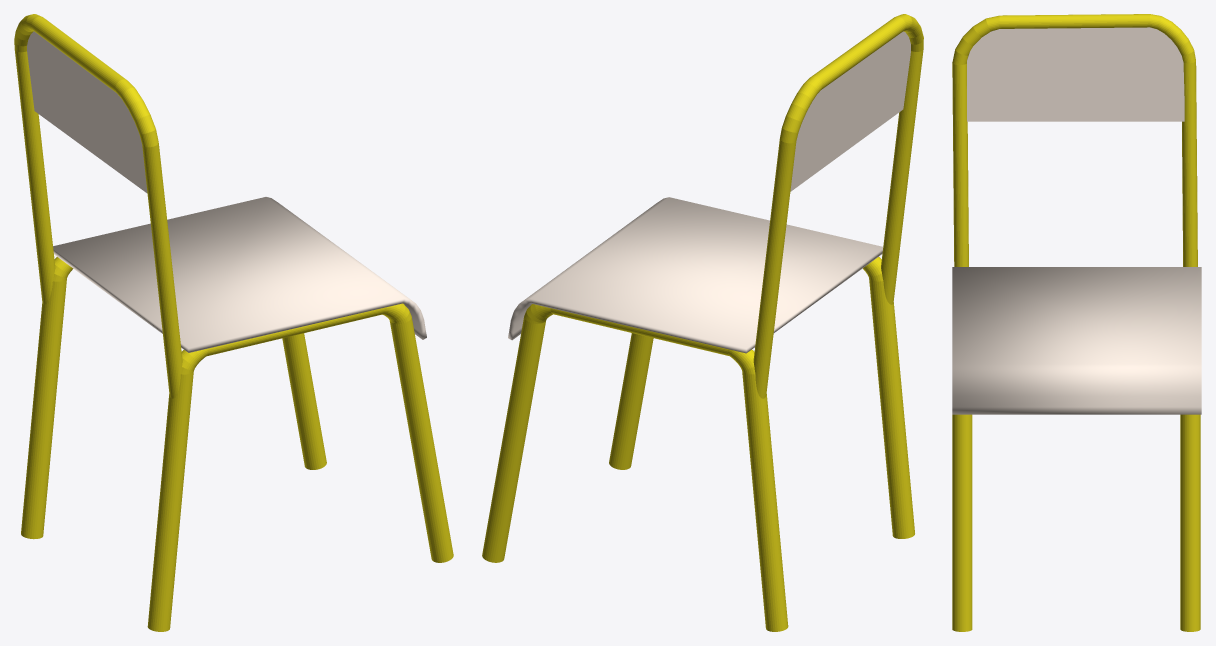
Rendered from seat.fbx.
The picture shows the model from 3 angles, left to right: view 1: azimuth 30°, elevation 25°; view 2: azimuth 150°, elevation 25°; view 3: azimuth 270°, elevation 25°; orthographic projection. The views are drawn at different scales.
Parts seen in each view (by area): view 1: Cylinder.002; view 2: Cylinder.002; view 3: Cylinder.002.
Part boxes in pixels (x1=…): Cylinder.002: x1=14, y1=14, x2=453, y2=631; Cylinder.002: x1=482, y1=14, x2=923, y2=631; Cylinder.002: x1=952, y1=14, x2=1201, y2=631.
Size of the model in its own units: 0.8127 by 0.6171 by 1.32.
